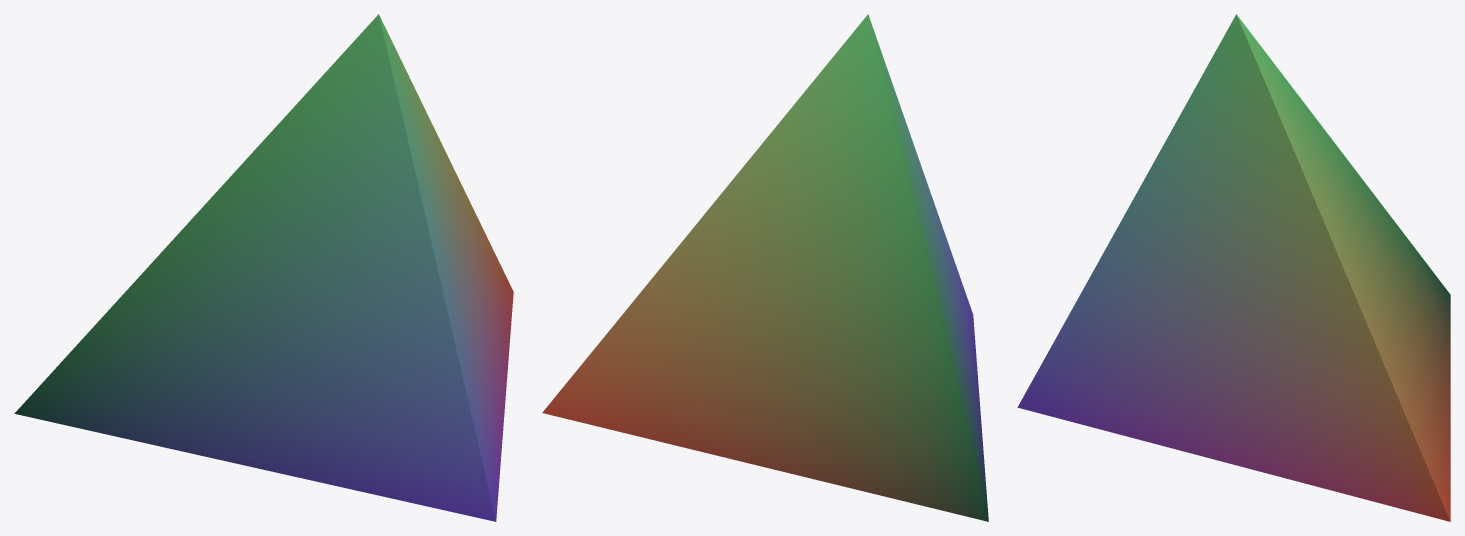
The model's file is zeometry-polyhedra-tetrahedron_v1.glb.
The picture shows the model from 3 angles, left to right: view 1: azimuth 30°, elevation 25°; view 2: azimuth 150°, elevation 25°; view 3: azimuth 270°, elevation 25°; orthographic projection. The views are drawn at different scales.
Parts seen in each view (by area): view 1: Tetrahedron_v1; view 2: Tetrahedron_v1; view 3: Tetrahedron_v1.
Boxes of the visible parts, x1=… form: Tetrahedron_v1: x1=14, y1=14, x2=513, y2=521; Tetrahedron_v1: x1=542, y1=14, x2=988, y2=521; Tetrahedron_v1: x1=1017, y1=14, x2=1450, y2=521.
Size of the model in its own units: 0.5 by 0.4045 by 0.4027.
